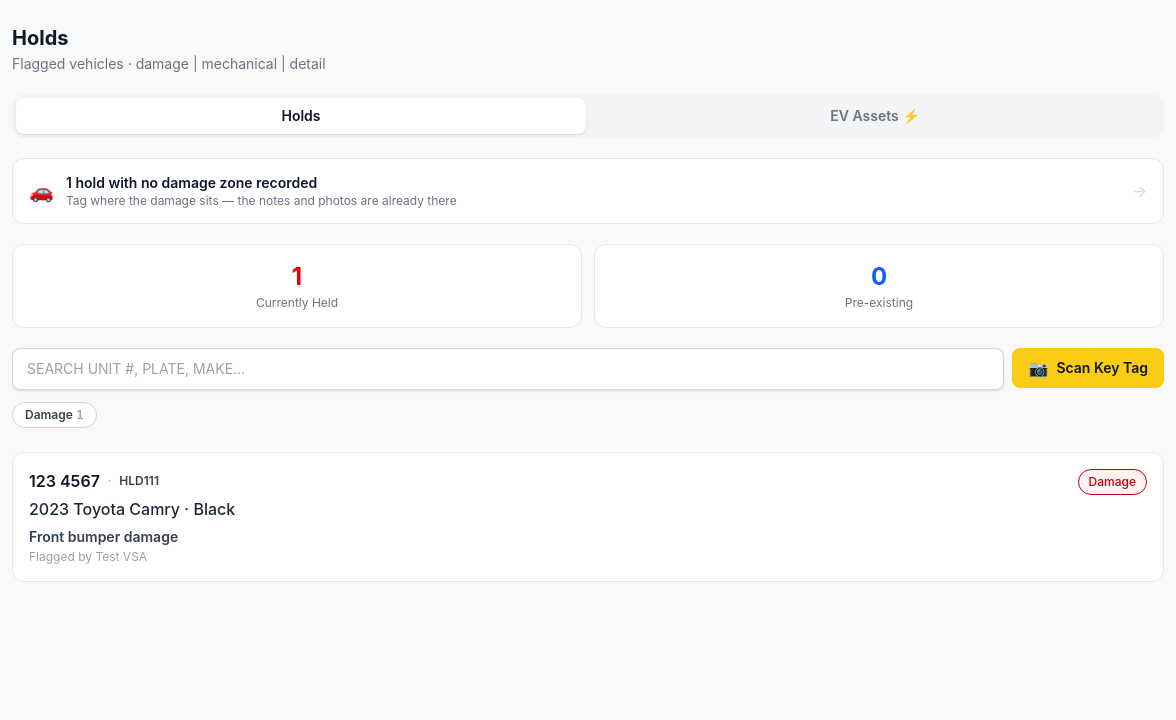
Test: HoldsView — search › shows "not in the system" + register CTA for unmatched search ≥2 chars
Type "ZZZZ" into the field with placeholder "Search unit #, plate, make…" at (508, 369), box x1=12 y1=348 x2=1004 y2=390
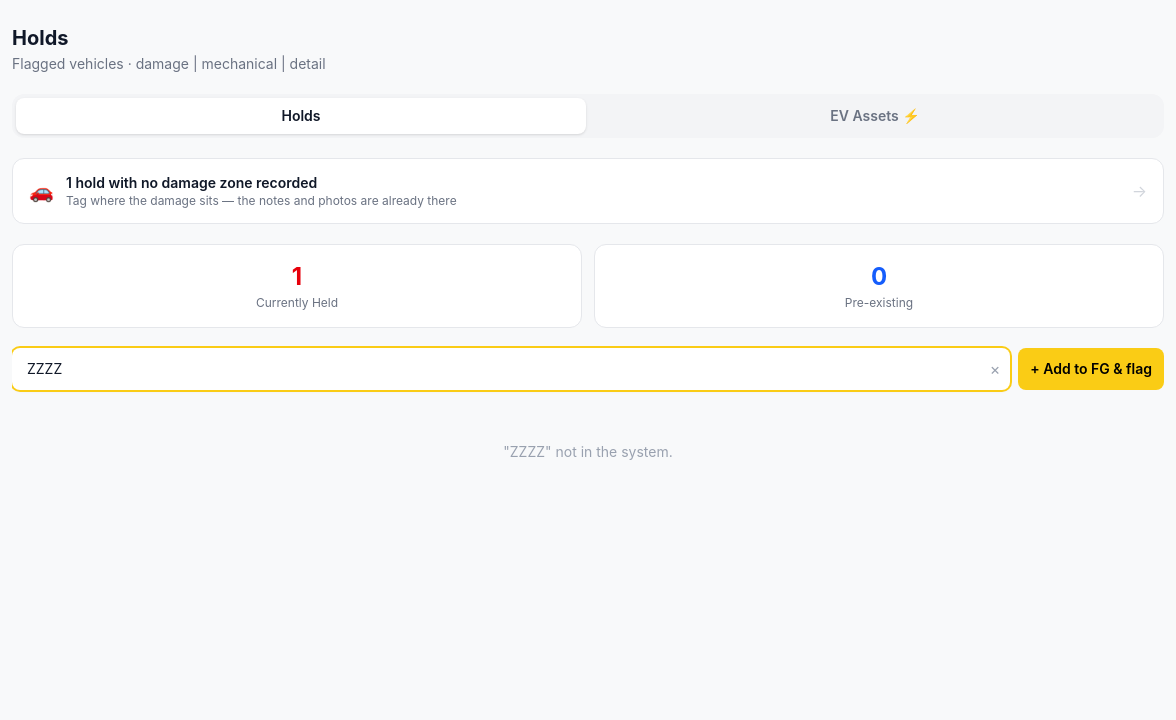
Expected: the text "\"ZZZZ\" not in the system." is shown, x1=503 y1=443 x2=673 y2=460
Expected: the button "+ Add to FG & flag" is shown, x1=1018 y1=348 x2=1164 y2=390
